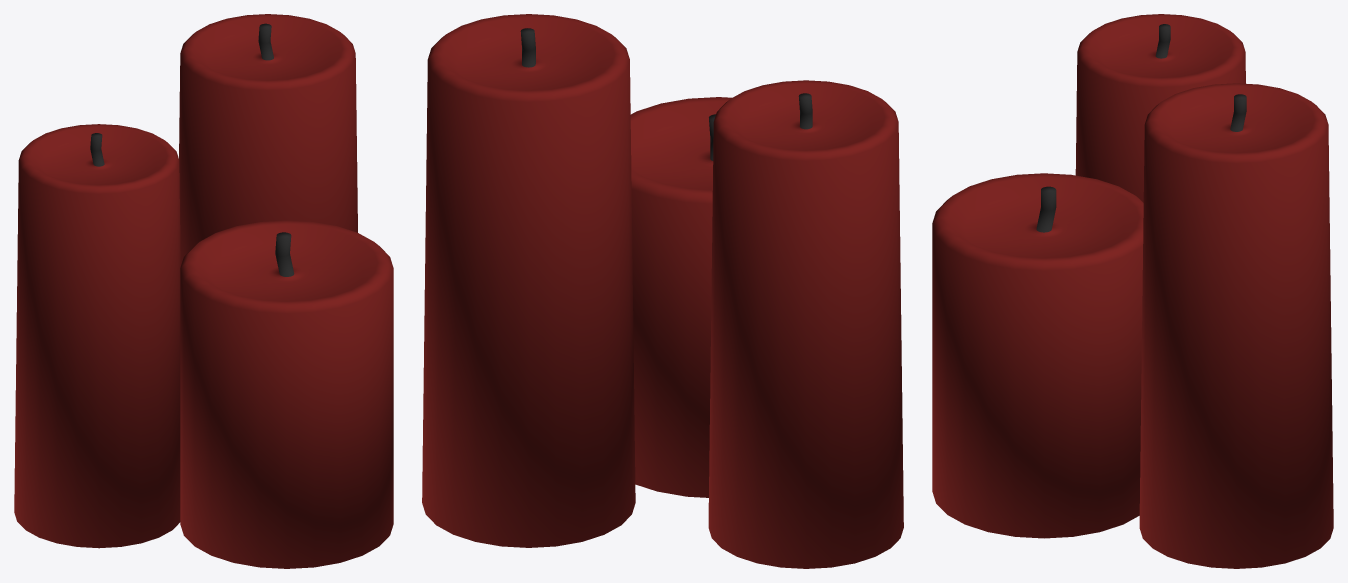
File: candles.fbx
The picture shows the model from 3 angles, left to right: view 1: azimuth 30°, elevation 25°; view 2: azimuth 150°, elevation 25°; view 3: azimuth 270°, elevation 25°; orthographic projection. The views are drawn at different scales.
Visible parts, largest first — view 1: Candles; view 2: Candles; view 3: Candles.
Boxes of the visible parts, left/top/right/bottom form: Candles: left=14, top=14, right=393, bottom=568; Candles: left=422, top=14, right=903, bottom=568; Candles: left=932, top=14, right=1333, bottom=568.
Size of the model in its own units: 62.87 by 58.18 by 68.95.
